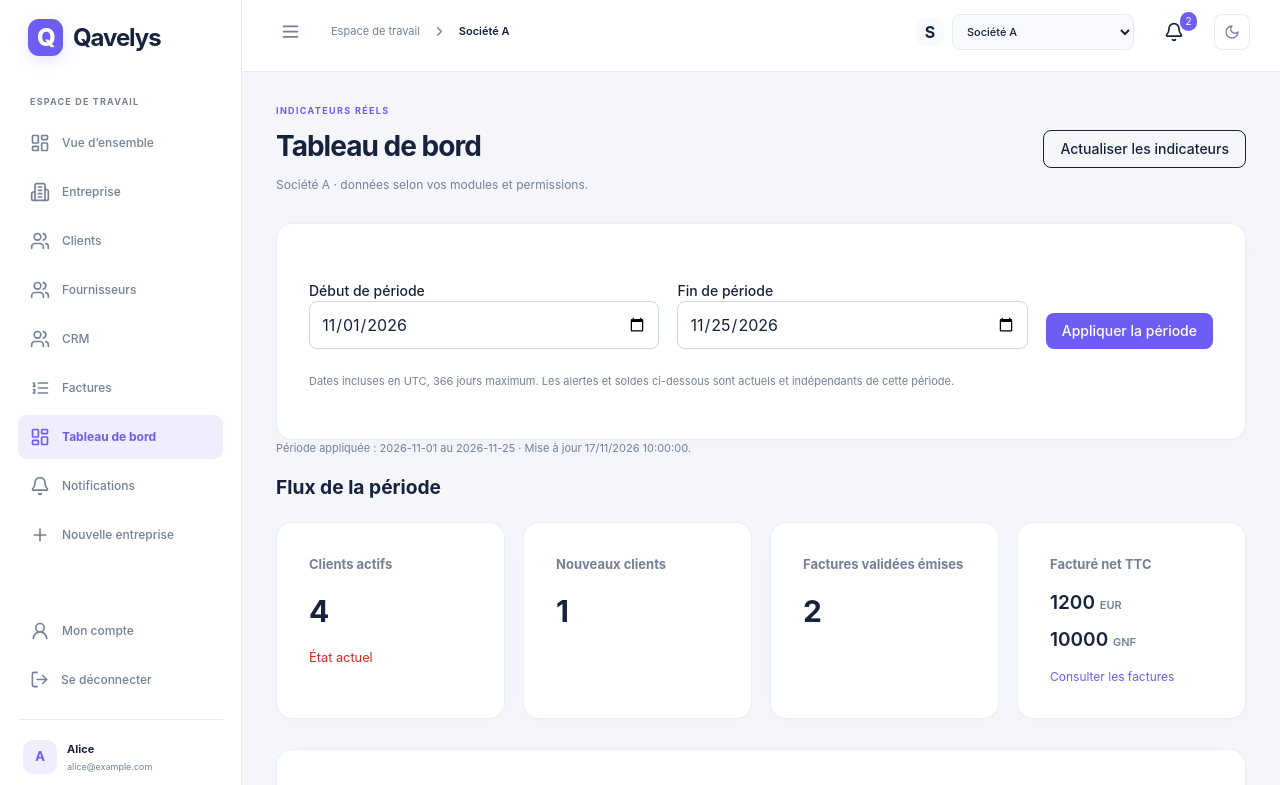
Test case: Tableau de bord et notifications réels › isole les indicateurs lors du changement d’entreprise
Select "Société B" in the dropdown named "Entreprise active" at {"x": 1043, "y": 32}, box [952, 14, 1134, 50]
(page scrolled)
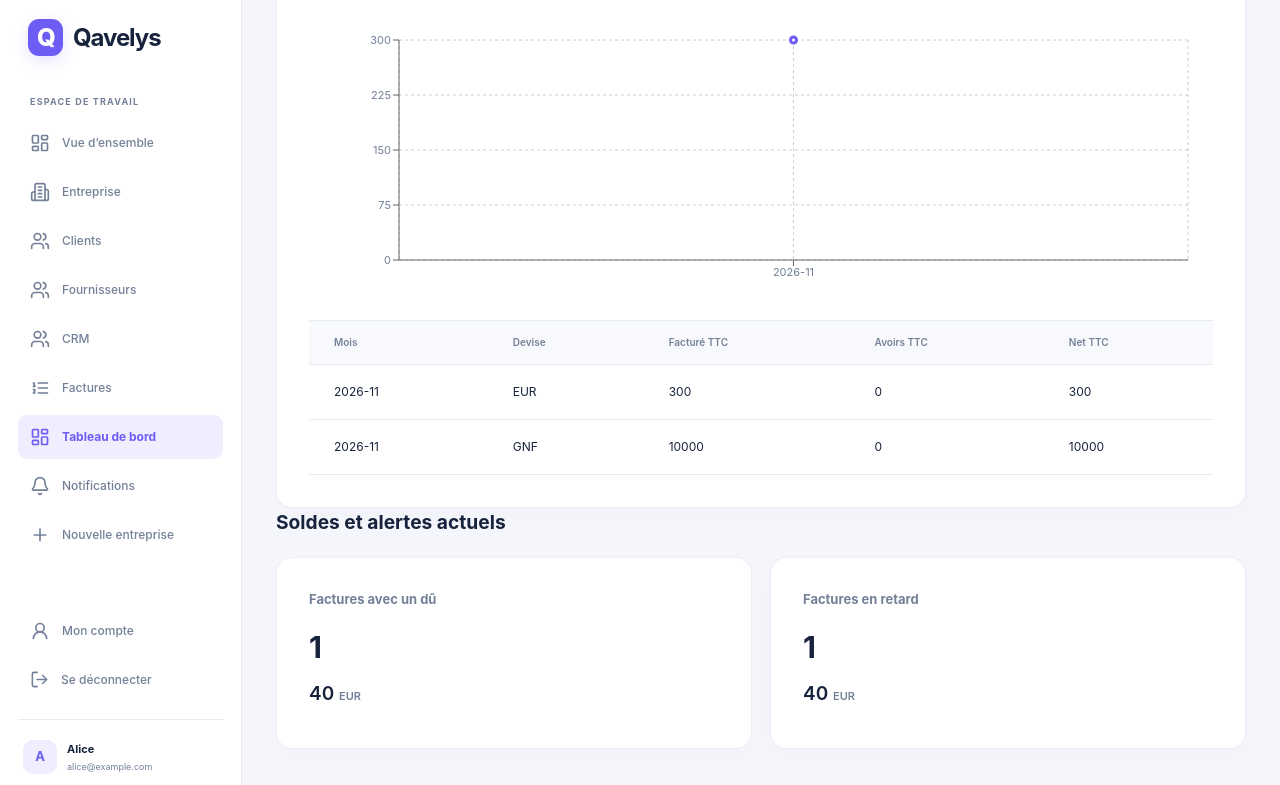
Expected: the 1st text "300" is shown, [644, 365, 850, 420]
Expected: the text "1200" is gone
